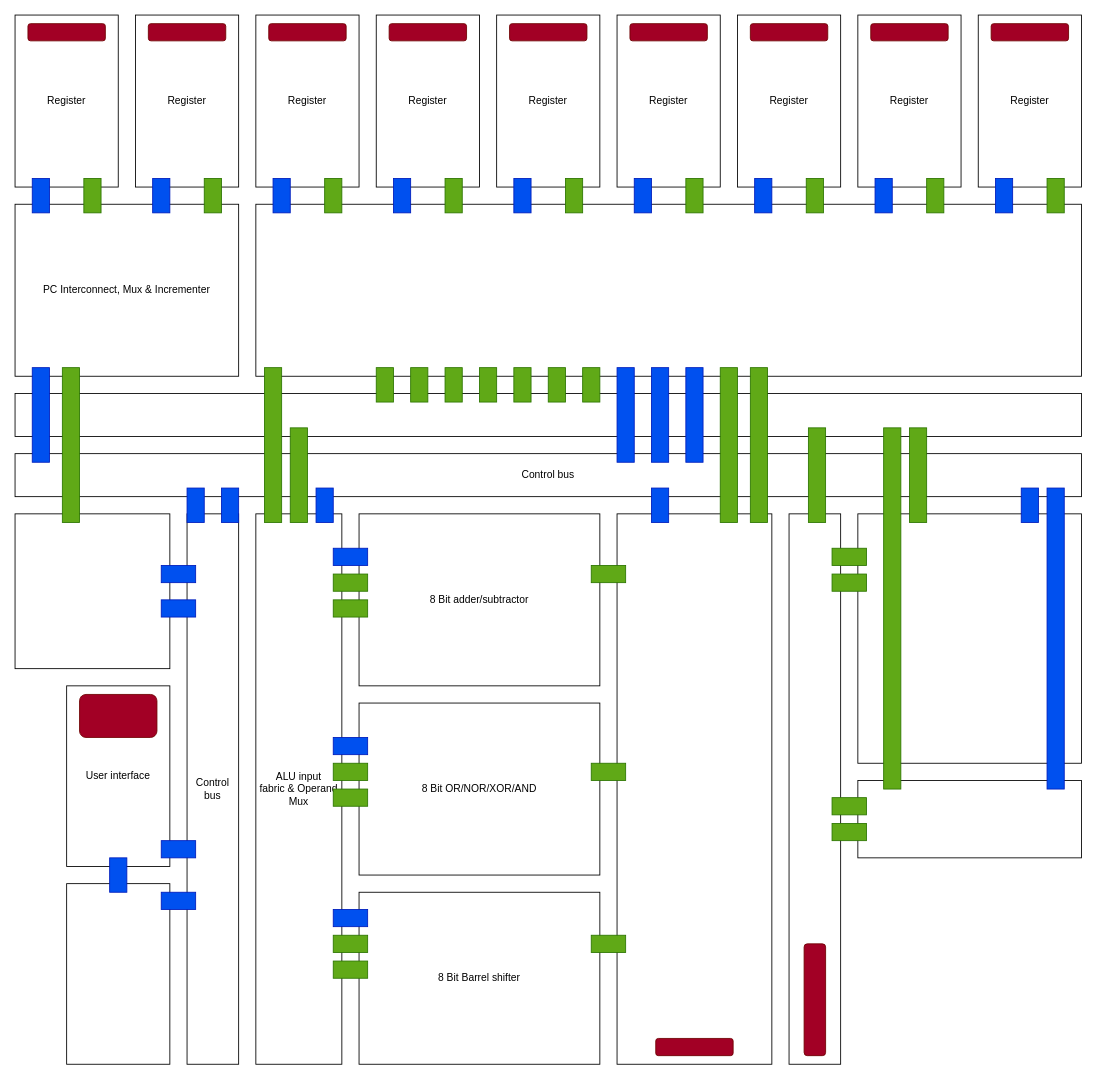
Some shapes in this 1097 by 1079 pixel diagram are drawn without their labels. Each missing label, with the box of its shape:
Address bus: (788, 513, 841, 1064)
ALU output fabric & Muxes: (616, 513, 772, 1064)
Data bus: (14, 393, 1081, 436)
External IO interface: (857, 780, 1081, 858)
Memory & Address Mux: (857, 513, 1081, 763)
OPROM & Programming interface: (14, 513, 170, 669)
Register Fabric, Muxes & Decoding: (255, 203, 1081, 376)
Timing: (66, 883, 170, 1064)
